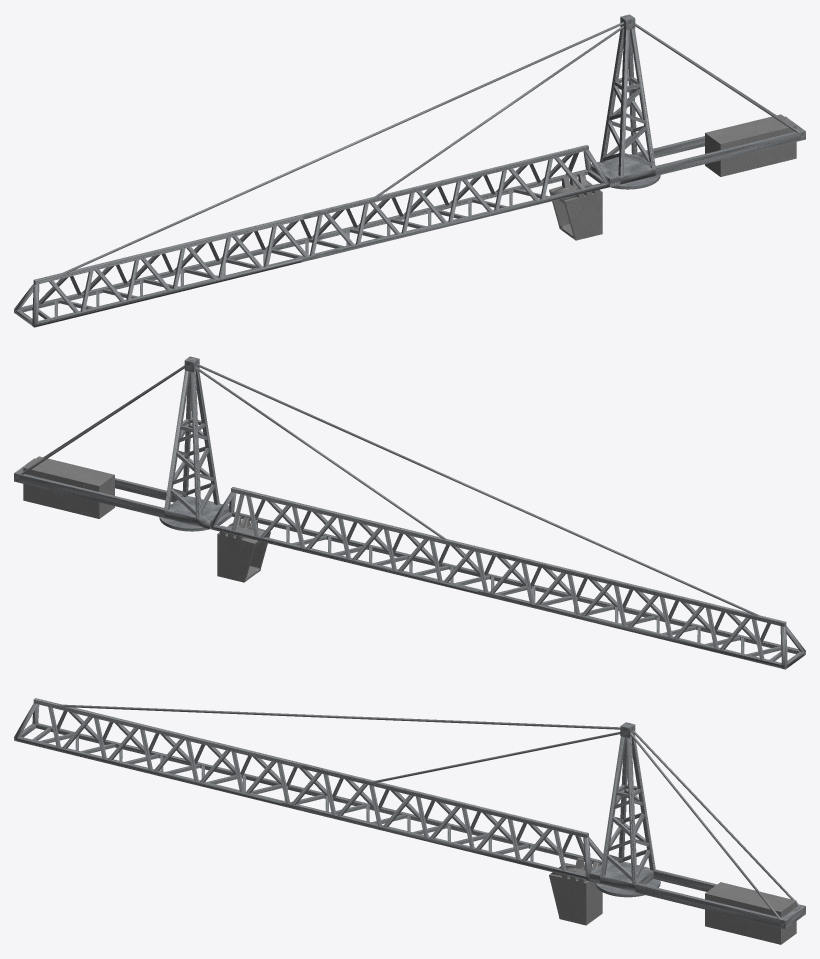
The model's file is oben.obj.
3 views of the same model, one above another, from view 1: azimuth 30°, elevation 25°; view 2: azimuth 150°, elevation 25°; view 3: azimuth 330°, elevation 25° (orthographic).
Parts seen in each view (by area): view 1: Würfel.1_ID17.001; view 2: Würfel.1_ID17.001; view 3: Würfel.1_ID17.001.
Boxes of the visible parts, box(x1,y1,x2,y2) form: Würfel.1_ID17.001: box(14, 14, 805, 327); Würfel.1_ID17.001: box(14, 356, 805, 669); Würfel.1_ID17.001: box(14, 698, 805, 944).
Size of the model in its own units: 1.09 by 0.2735 by 0.08.
Materials: 2 (2 with a texture image).
